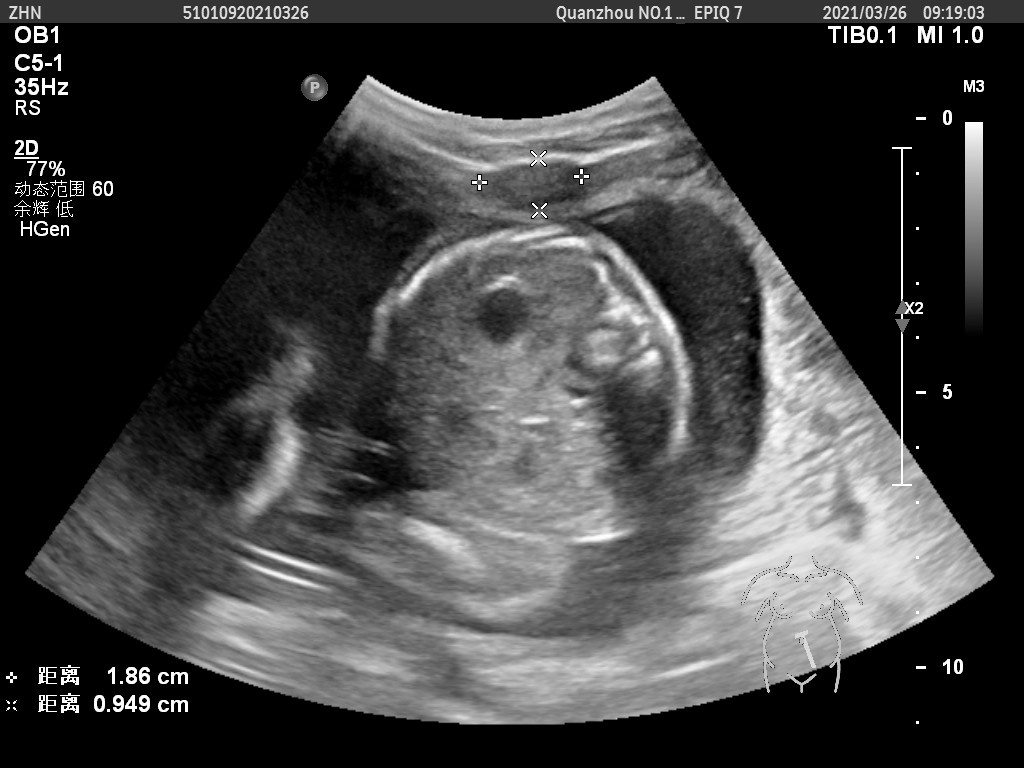肌瘤: (478, 161, 588, 209)
